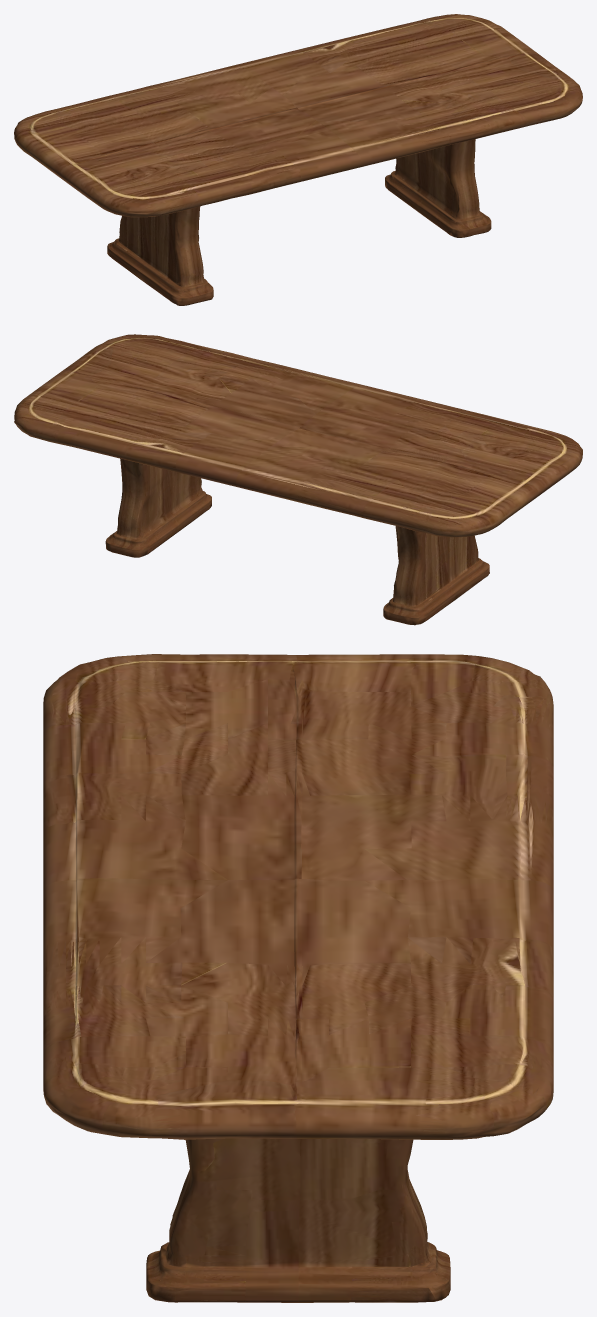
The model's file is coffee_table_wood.glb.
The picture shows the model from 3 angles, top to bottom: view 1: azimuth 30°, elevation 25°; view 2: azimuth 150°, elevation 25°; view 3: azimuth 270°, elevation 25°; orthographic projection. The views are drawn at different scales.
Visible parts, largest first — view 1: prop; view 2: prop; view 3: prop.
Part boxes in pixels (left/top/right/bottom): prop: left=14, top=14, right=582, bottom=305; prop: left=14, top=334, right=582, bottom=625; prop: left=43, top=654, right=553, bottom=1302.
Size of the model in its own units: 1.25 by 0.3368 by 0.5752.
1 material, 1 textured.
